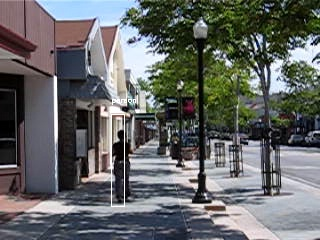person: (111, 131, 134, 206), (110, 131, 133, 206), (112, 131, 135, 206), (111, 130, 134, 205), (111, 132, 134, 207)
target_negative: (76, 142, 266, 218), (64, 158, 306, 179), (214, 186, 245, 230), (176, 191, 247, 199), (38, 225, 66, 240), (106, 237, 178, 240)
